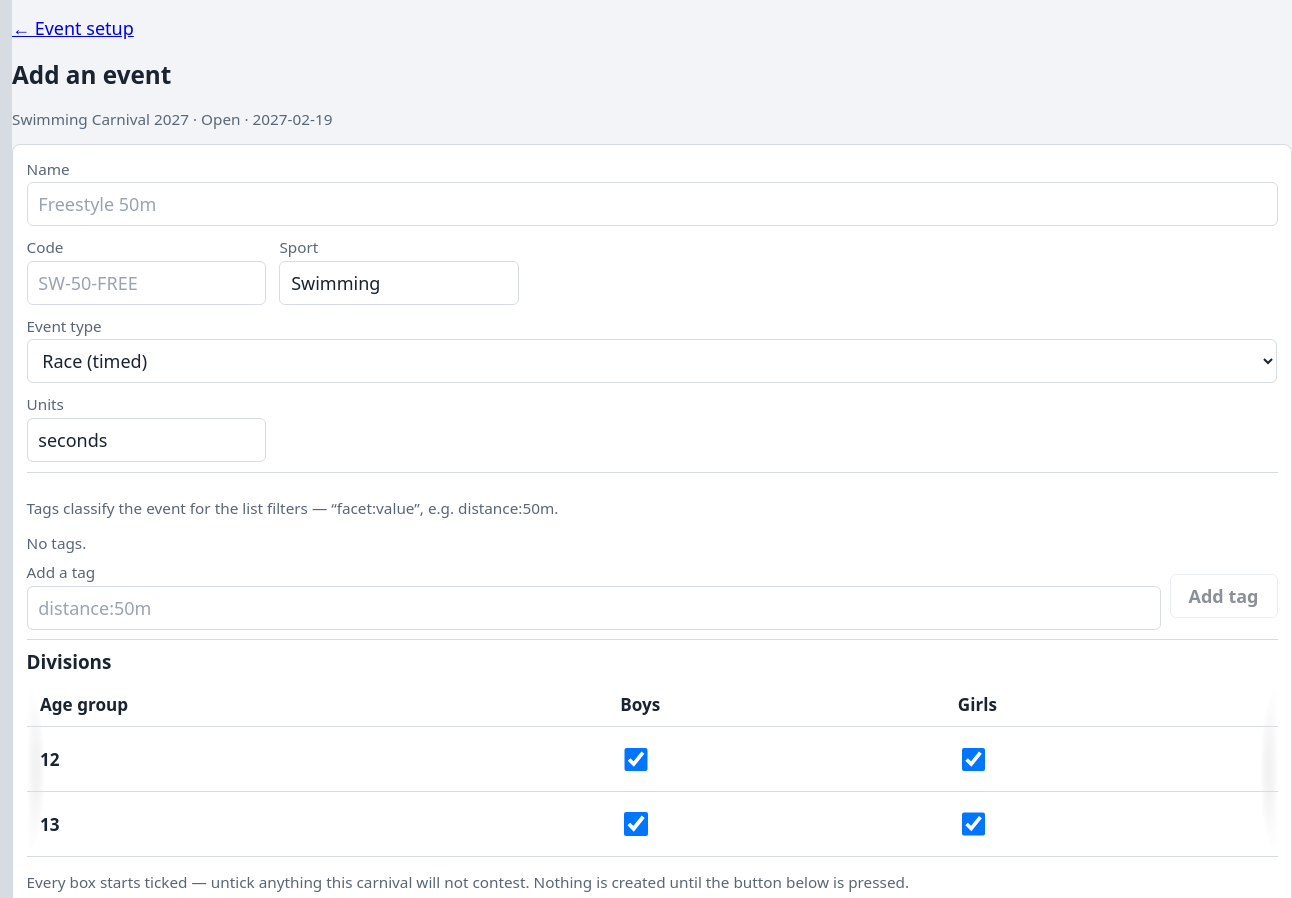
Test: NewEventScreen › arrives with the whole matrix ticked, and the button counts what it will make
This screenshot has width=1292, height=898.
What coordinates should you click on to do the following:
click the checkbox named "12 · Boys"
I would click on:
 (636, 759)
Its box is [624,748,648,771].
(page scrolled)
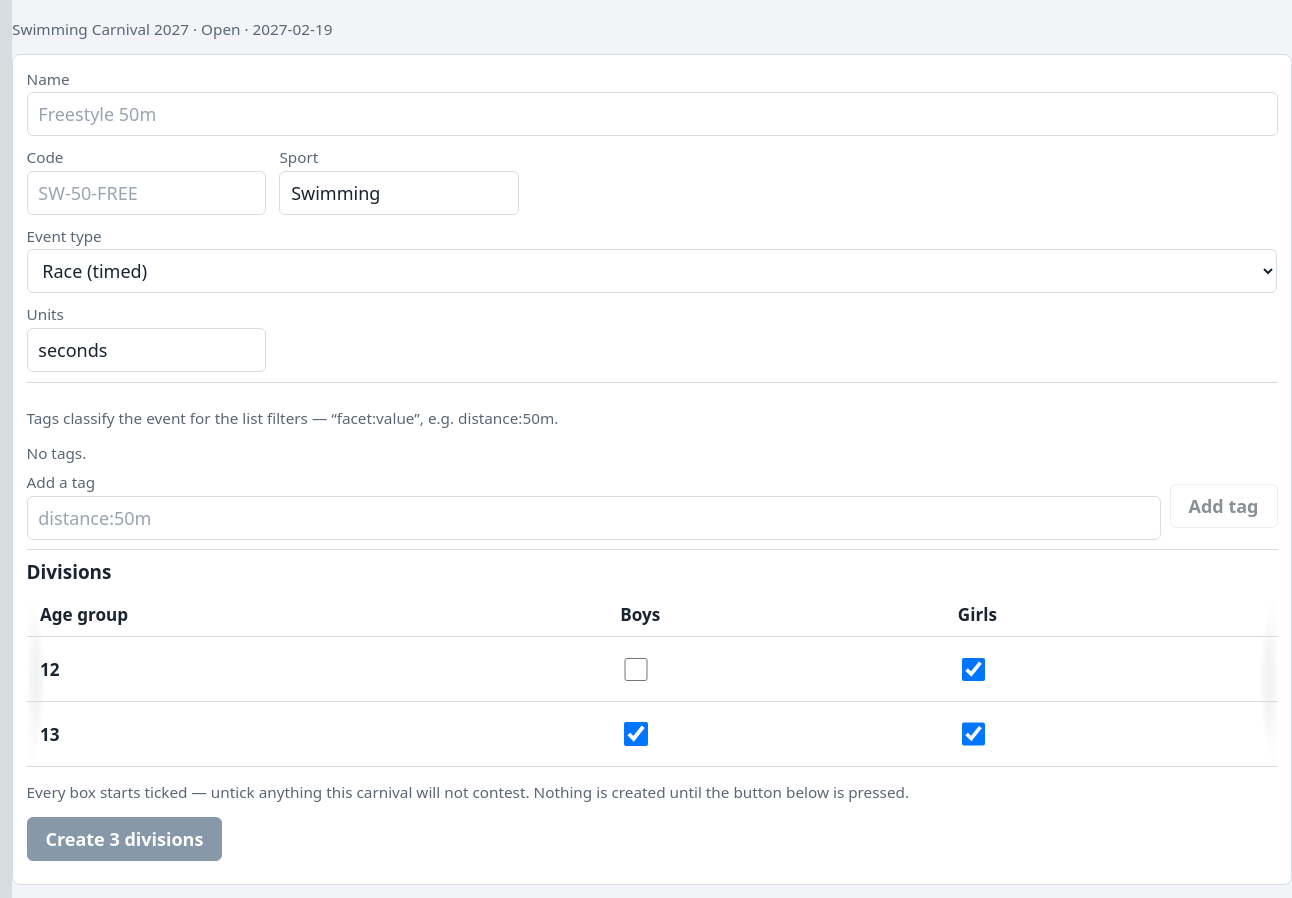
expect the button "Create 3 divisions" is shown: met, box [26,818,222,862]
